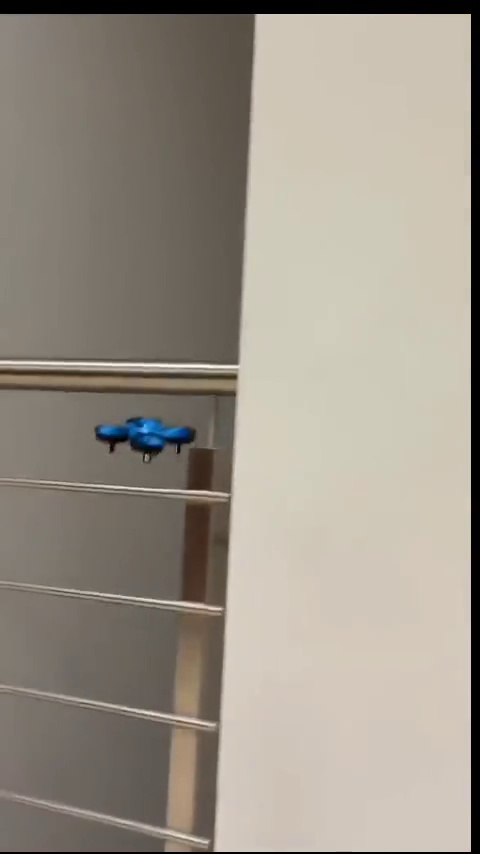drone: (93, 416, 195, 461)
